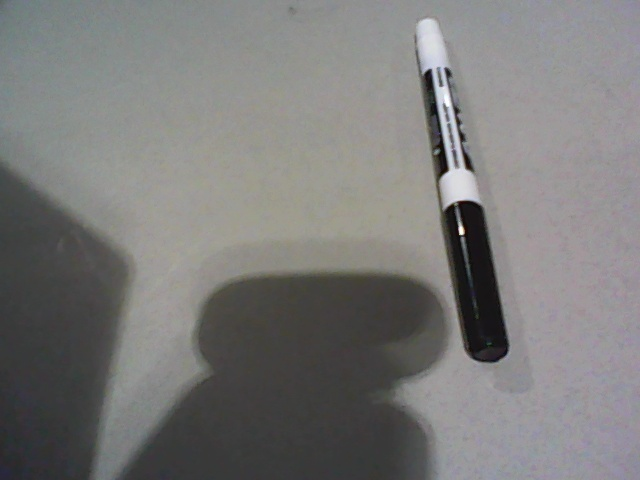marker: (412, 17, 508, 363)
